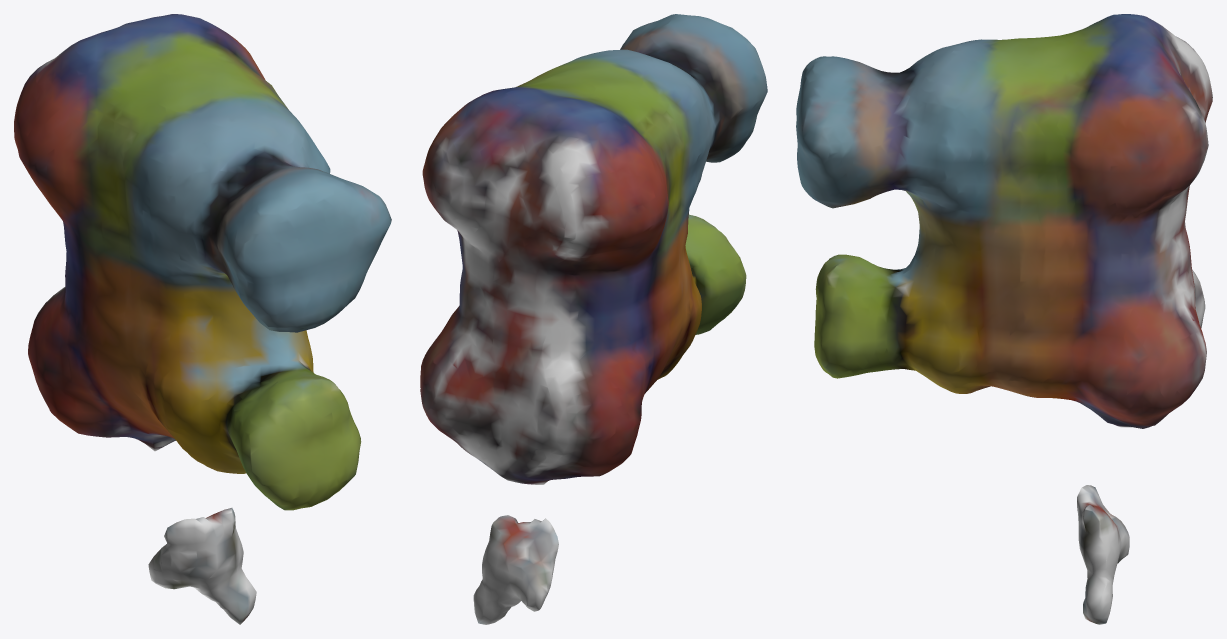
File: train.glb
3 renders of one model, left to right at view 1: azimuth 30°, elevation 25°; view 2: azimuth 150°, elevation 25°; view 3: azimuth 270°, elevation 25°, orthographic. The views are drawn at different scales.
Size of the model in its own units: 0.4285 by 1 by 0.681.
